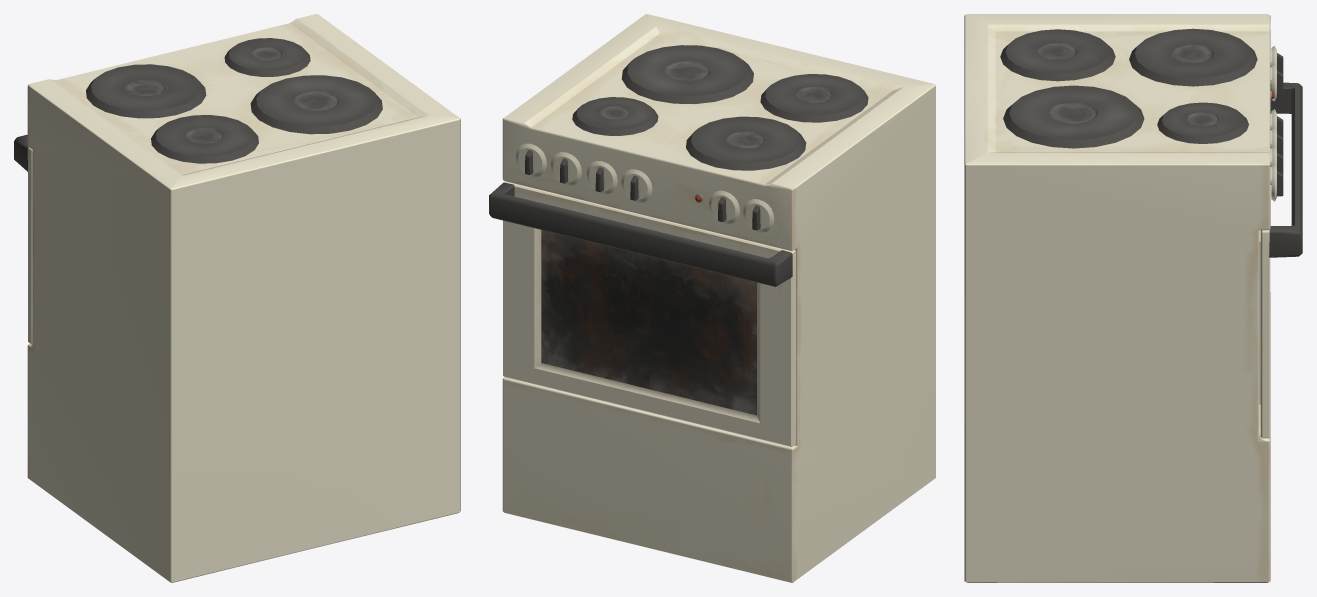
File: stove (3).fbx
The picture shows the model from 3 angles, left to right: view 1: azimuth 30°, elevation 25°; view 2: azimuth 150°, elevation 25°; view 3: azimuth 270°, elevation 25°; orthographic projection. The views are drawn at different scales.
Parts seen in each view (by area): view 1: stove; view 2: stove; view 3: stove.
Boxes of the visible parts, x1=… form: stove: x1=14, y1=14, x2=460, y2=582; stove: x1=489, y1=14, x2=935, y2=582; stove: x1=964, y1=14, x2=1302, y2=582.
Size of the model in its own units: 0.8825 by 1.15 by 0.8355.
